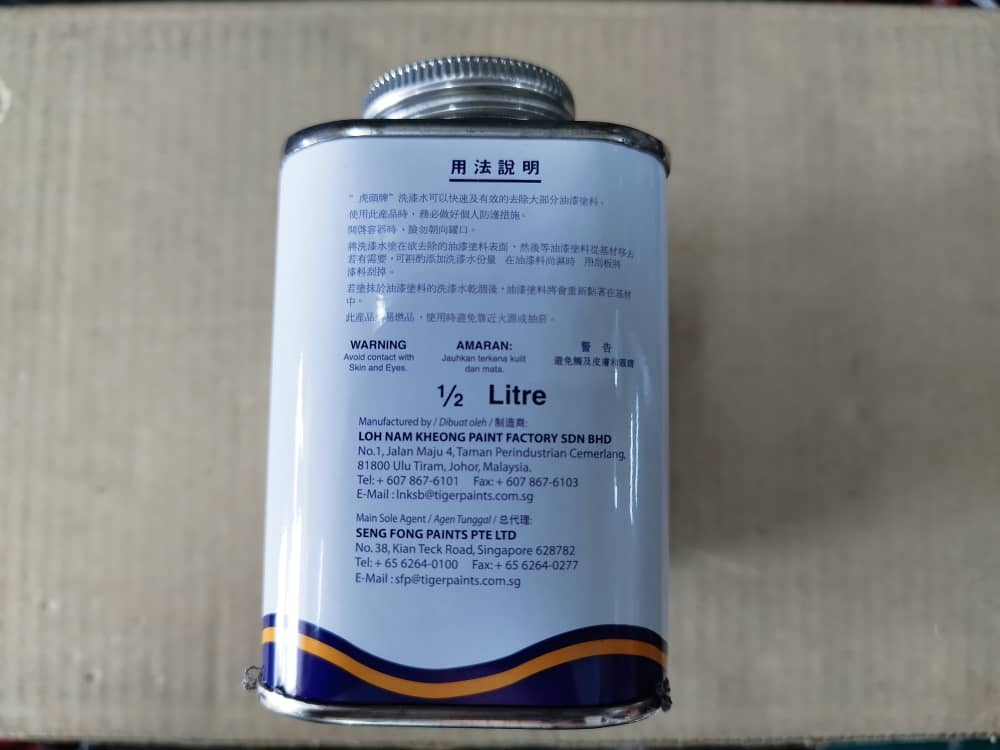sku_glue: (275, 56, 689, 730)
